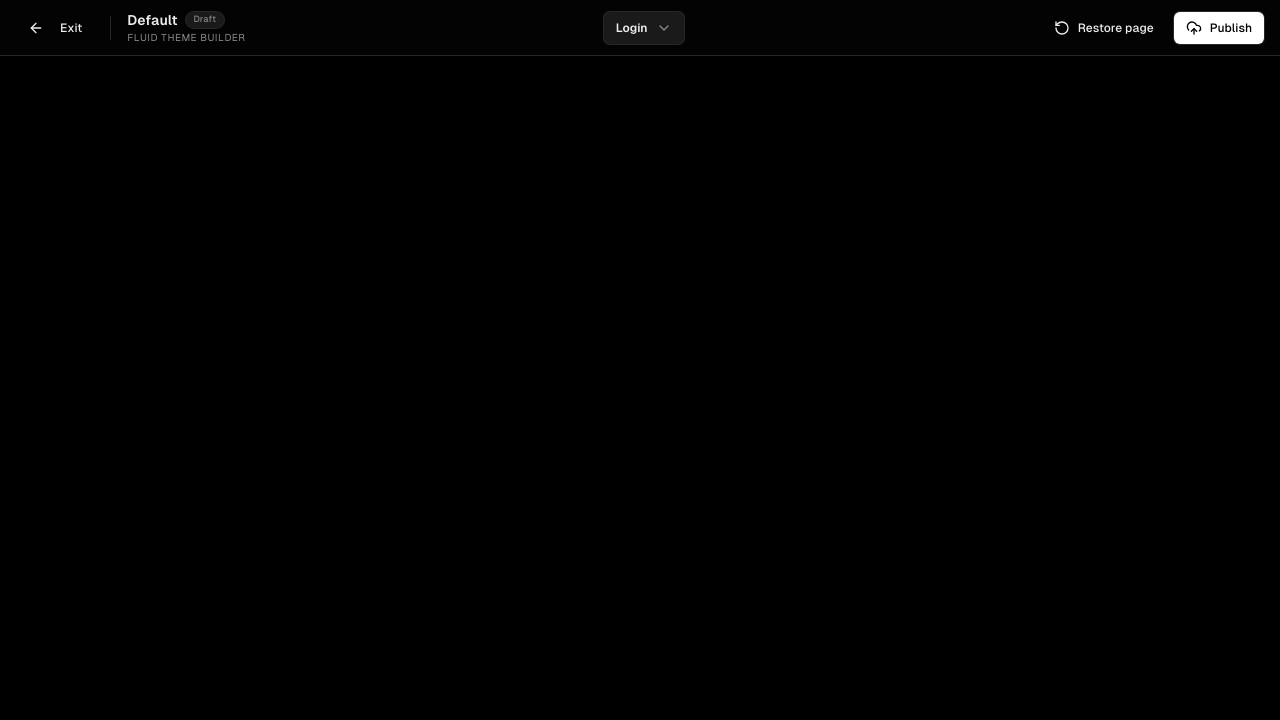
it: FluidBuilderHeader restore-page action › confirms before resetting, naming the page
This screenshot has width=1280, height=720.
Click the button "Restore page".
click(1104, 28)  # box [1042,12,1166,44]
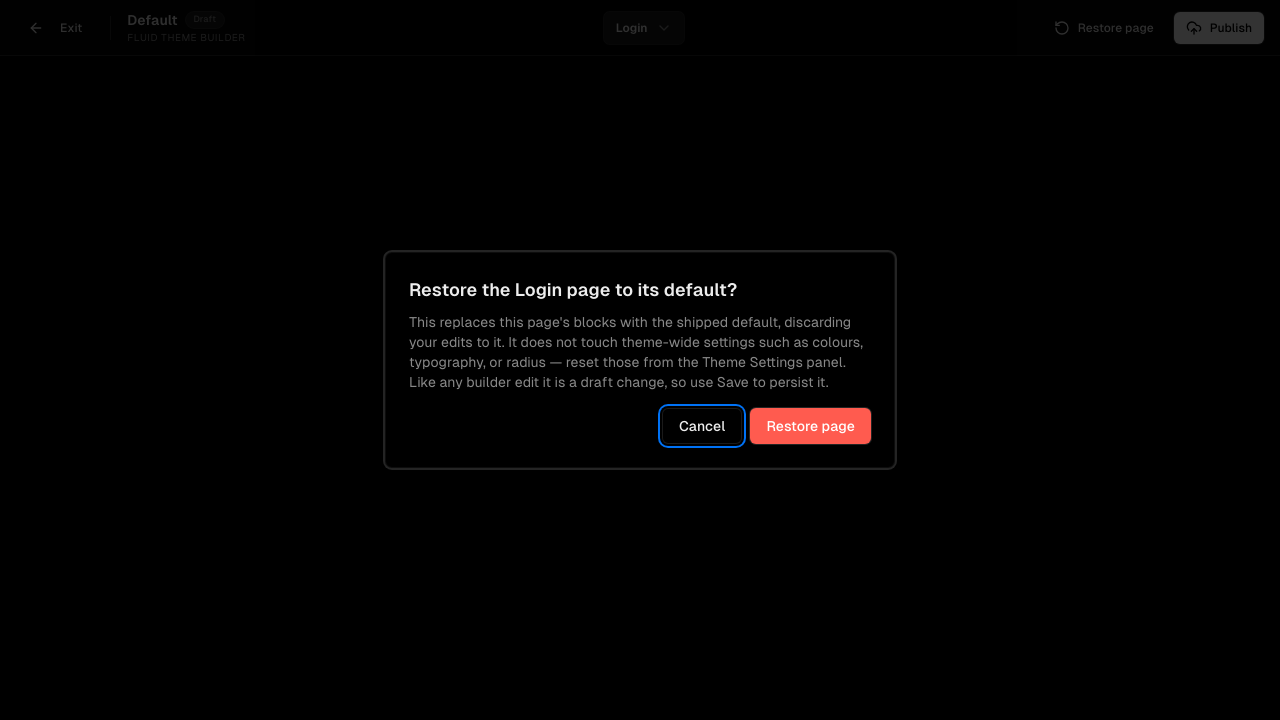
expect the heading "Restore the Login page to its default?" is shown: met, box [409,279,737,300]
